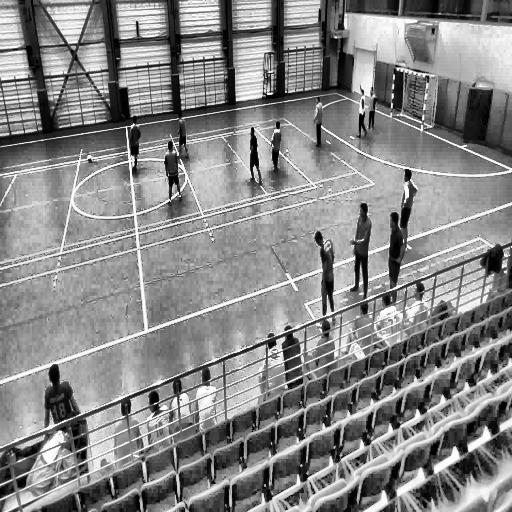ball: (86, 151, 94, 165)
player: (349, 200, 372, 300), (314, 229, 337, 326), (398, 168, 416, 246), (164, 140, 182, 205), (174, 109, 190, 163), (248, 126, 262, 186), (356, 79, 368, 144), (128, 115, 141, 174), (270, 120, 282, 176), (312, 94, 324, 150), (366, 86, 376, 134)
